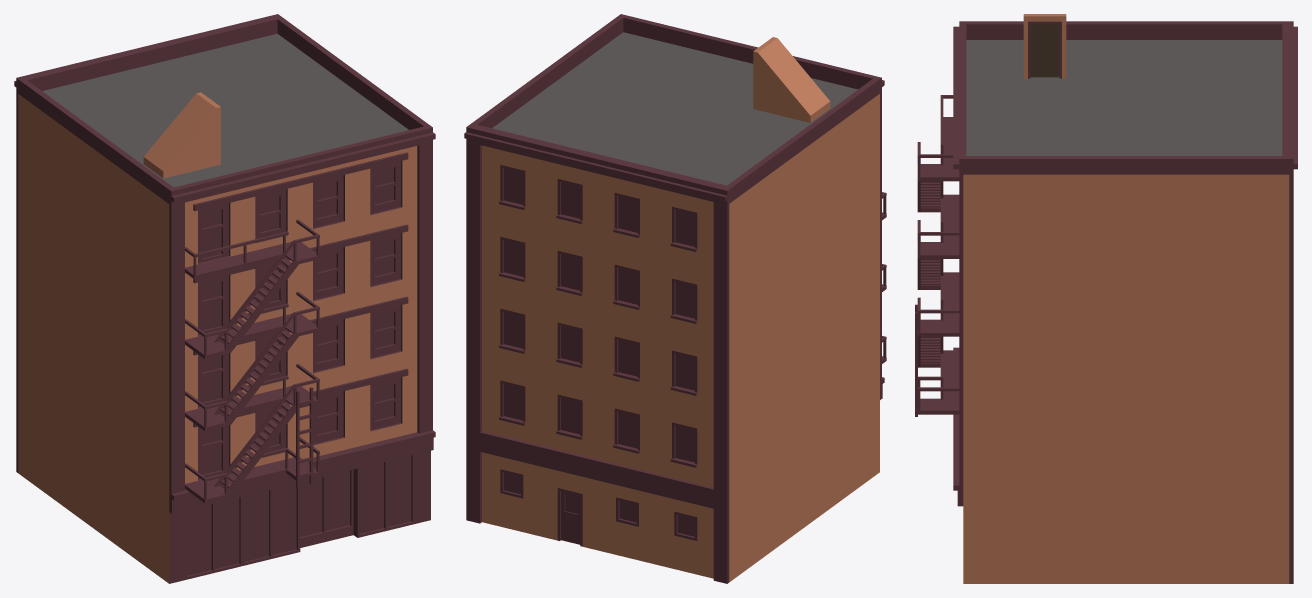
Rendered from Building 4 étages avant.fbx.
3 renders of one model, left to right at view 1: azimuth 30°, elevation 25°; view 2: azimuth 150°, elevation 25°; view 3: azimuth 270°, elevation 25°, orthographic. The views are drawn at different scales.
Parts seen in each view (by area): view 1: building-block-4floor-front; view 2: building-block-4floor-front; view 3: building-block-4floor-front.
Part boxes in pixels (left/top/right/bottom): building-block-4floor-front: left=14, top=14, right=435, bottom=583; building-block-4floor-front: left=464, top=14, right=886, bottom=583; building-block-4floor-front: left=915, top=14, right=1297, bottom=583.
Size of the model in its own units: 1140 by 1820 by 1340.
